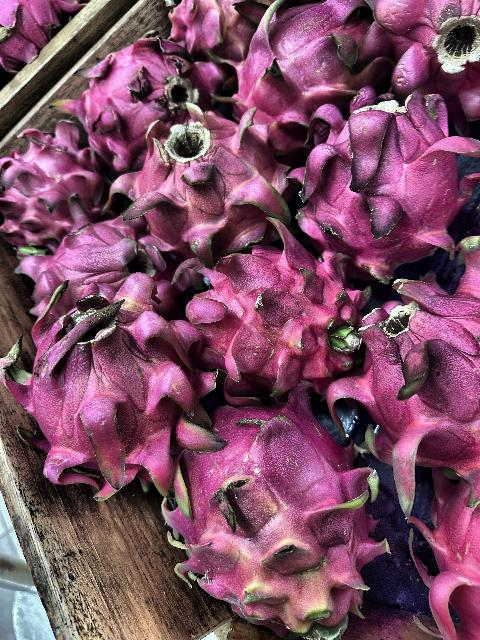buah-naga-belum-matang: (167, 406, 385, 640), (164, 1, 262, 52)
buah-naga-matang: (3, 280, 214, 490), (293, 89, 467, 275), (340, 270, 480, 472), (185, 238, 362, 376), (123, 108, 288, 252), (220, 1, 376, 148), (57, 36, 225, 150), (17, 214, 183, 310), (410, 468, 480, 640), (0, 124, 106, 236), (370, 0, 480, 106)
